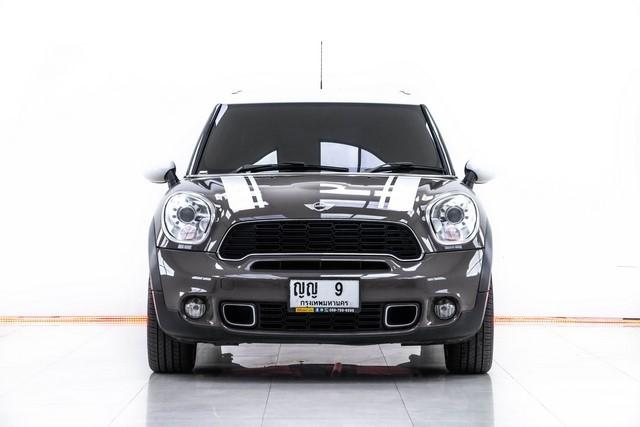license-plate: (286, 272, 365, 323)
